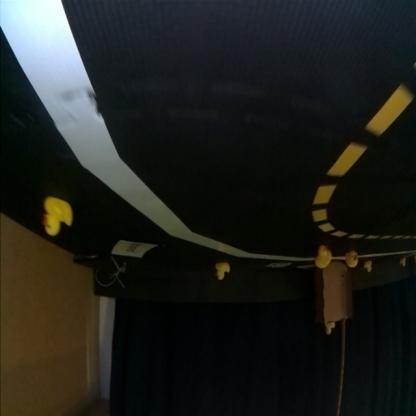Duckie: (43, 198, 72, 236), (317, 249, 332, 268), (216, 263, 230, 280), (347, 252, 359, 268), (326, 324, 336, 336), (364, 262, 372, 274)
QR code: (268, 262, 290, 268)
